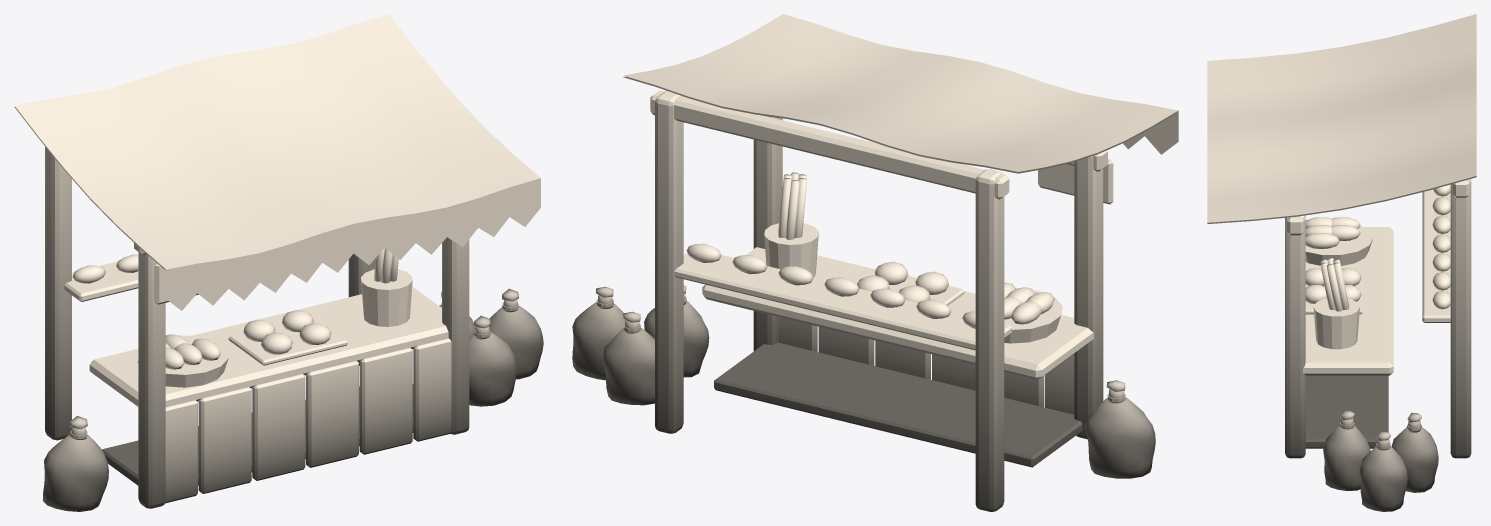
The model's file is SM_VK_MarketStall_Baker.fbx.
3 views of the same model, side by side, from view 1: azimuth 30°, elevation 25°; view 2: azimuth 150°, elevation 25°; view 3: azimuth 270°, elevation 25° (orthographic). The views are drawn at different scales.
Visible parts, largest first — view 1: SM_VK_MarketStall_Baker.001; view 2: SM_VK_MarketStall_Baker.001; view 3: SM_VK_MarketStall_Baker.001.
Part boxes in pixels (x1=…): SM_VK_MarketStall_Baker.001: x1=14, y1=14, x2=543, y2=511; SM_VK_MarketStall_Baker.001: x1=572, y1=14, x2=1178, y2=511; SM_VK_MarketStall_Baker.001: x1=1207, y1=14, x2=1476, y2=511.
Size of the model in its own units: 5.14 by 3.17 by 2.6.
